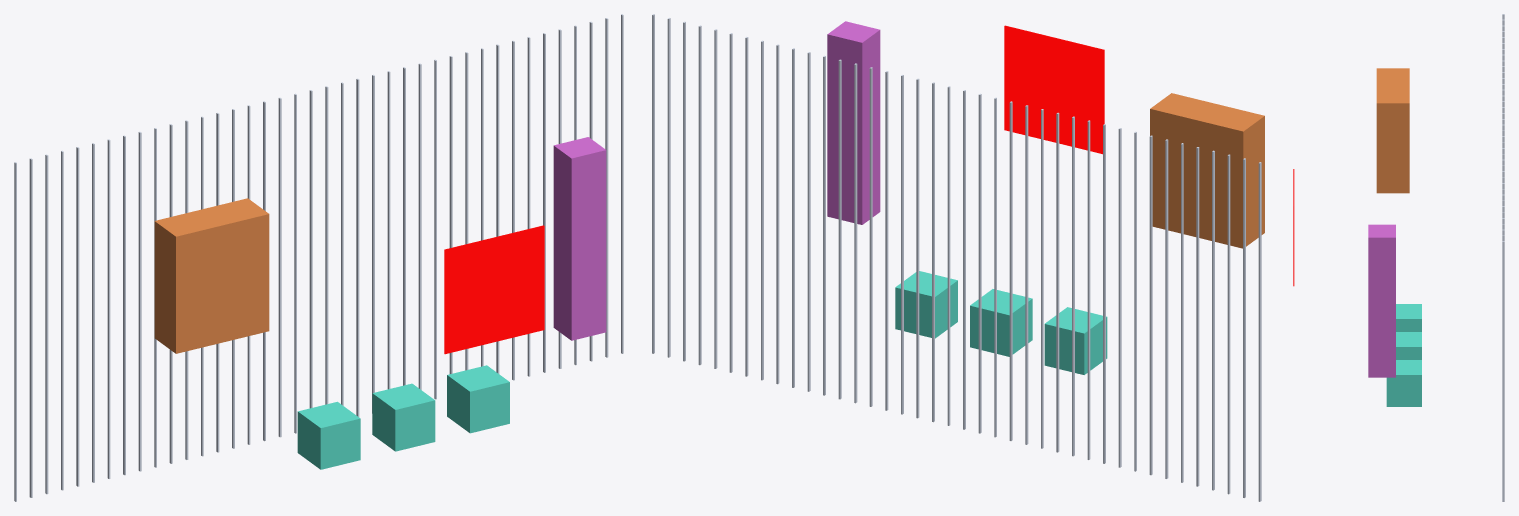
The picture shows the model from 3 angles, left to right: view 1: azimuth 30°, elevation 25°; view 2: azimuth 150°, elevation 25°; view 3: azimuth 270°, elevation 25°; orthographic projection. The views are drawn at different scales.
Parts seen in each view (by area): view 1: Block, Occluder, Character, Marker_0, Marker_1, Marker_2, Bar_02, Bar_08, Bar_17, Bar_04, Bar_01, Bar_06 (+27 smaller); view 2: Block, Occluder, Character, Marker_1, Marker_0, Marker_2, Bar_07, Bar_13, Bar_02, Bar_04, Bar_16, Bar_22 (+34 smaller); view 3: Character, Block, Marker_2, Bar_39, Marker_0, Marker_1.
Part boxes in pixels (x1,y1,x2,y2): Block: (154,198,269,353); Occluder: (444,225,544,354); Character: (553,137,606,340); Marker_0: (297,401,360,469); Marker_1: (372,383,435,451); Marker_2: (447,365,509,433); Bar_02: (45,154,48,494); Bar_08: (138,131,141,471); Bar_17: (278,97,281,437); Bar_04: (76,147,79,486); Bar_01: (29,158,32,497); Bar_06: (107,139,110,478); Block: (1150,93,1264,248); Occluder: (1004,25,1104,154); Character: (827,21,880,224); Marker_1: (970,289,1032,356); Marker_0: (1044,307,1107,374); Marker_2: (895,271,957,338); Bar_07: (1149,135,1152,475); Bar_13: (1056,112,1059,452); Bar_02: (1227,154,1230,494); Bar_04: (1196,147,1199,486); Bar_16: (1009,101,1012,440); Bar_22: (916,78,919,418); Character: (1368,224,1395,377); Block: (1376,68,1409,193); Marker_2: (1386,360,1421,406); Bar_39: (1502,241,1504,501); Marker_0: (1396,304,1421,331); Marker_1: (1396,332,1421,359).
Size of the model in its own units: 4.89 by 2.6 by 1.91.
